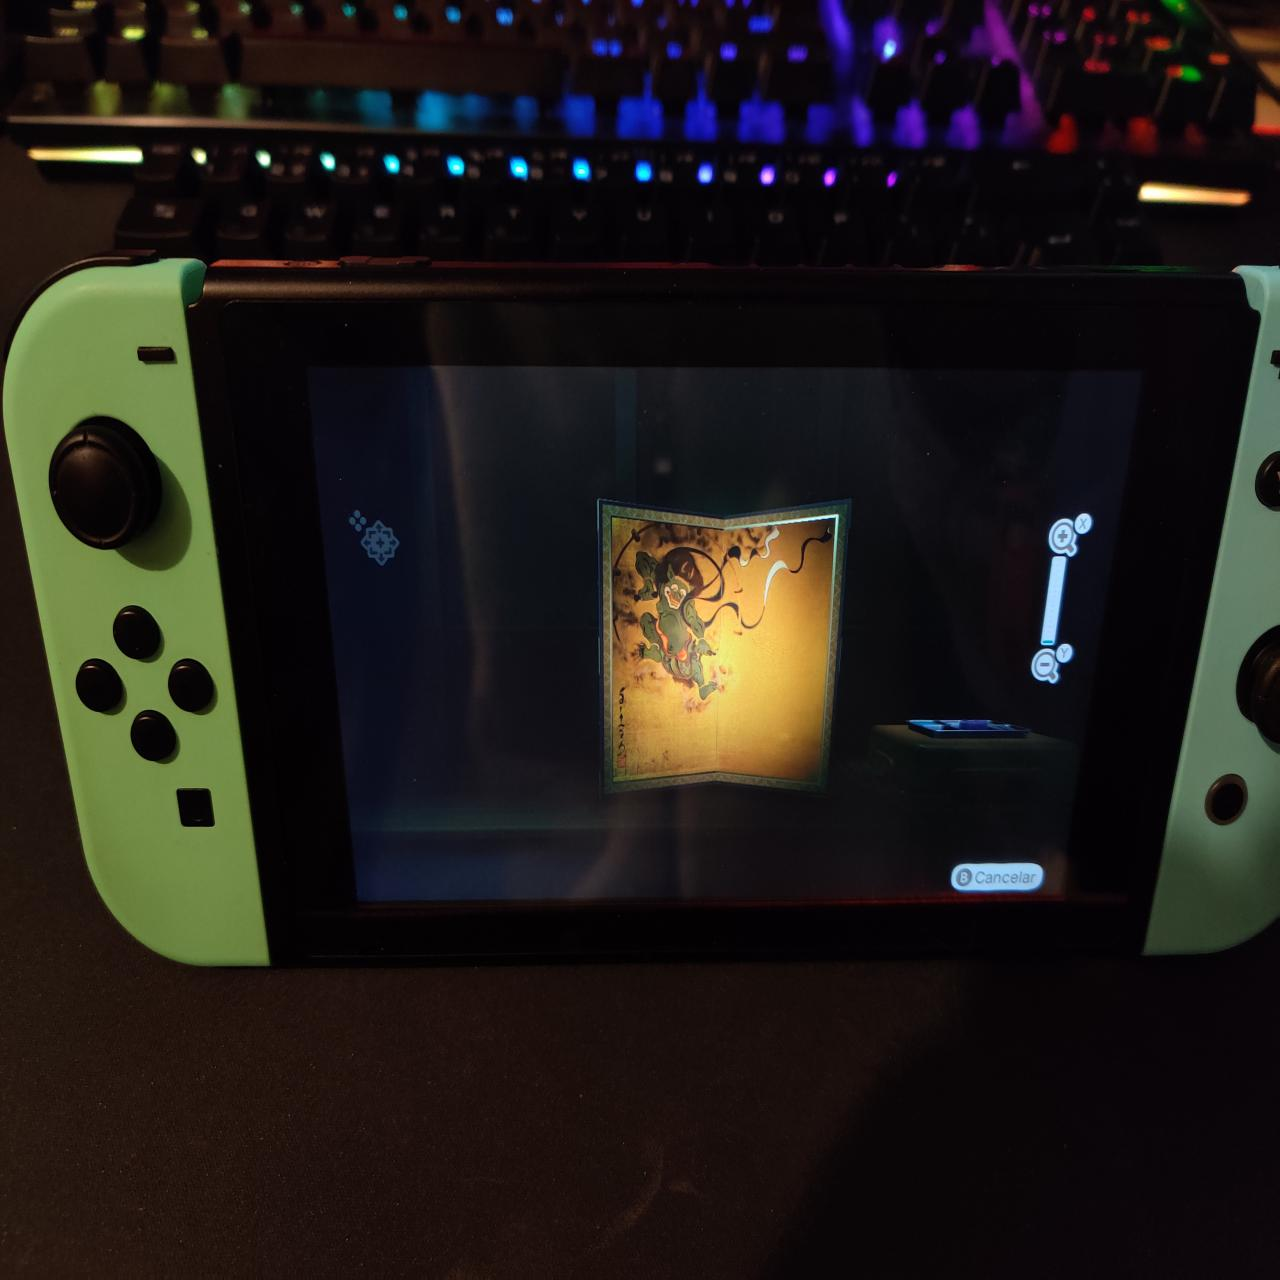RaijinFake: (602, 501, 845, 796)
